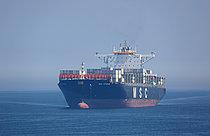Ship: (54, 39, 171, 111)
